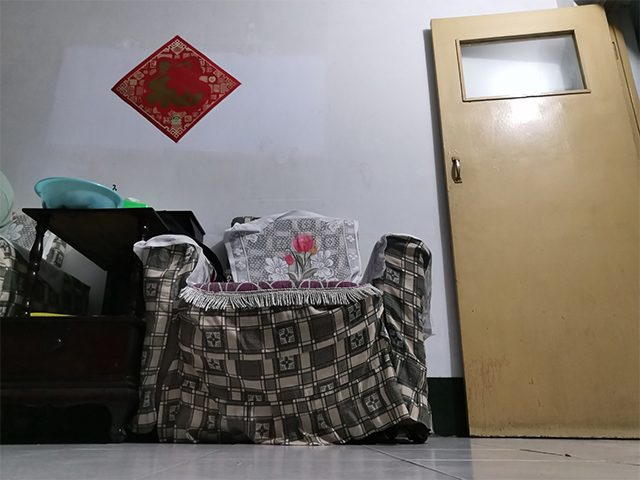cabinet: (1, 204, 209, 445)
sofa: (131, 206, 435, 449)
